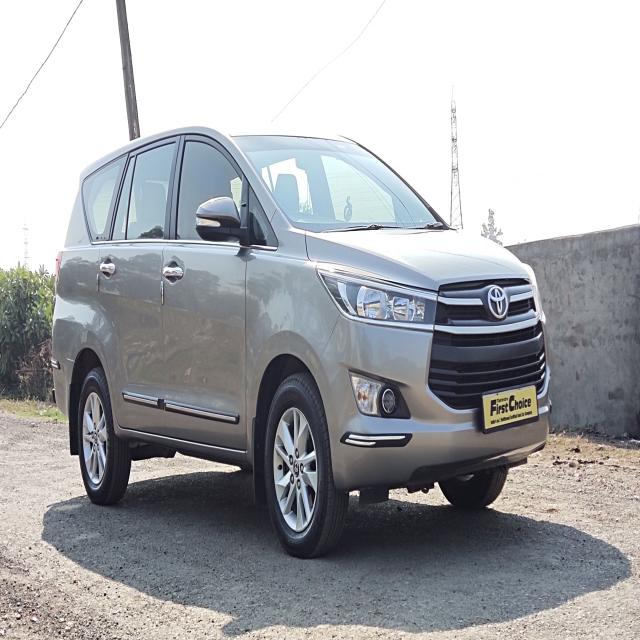light_vehicle: (50, 126, 553, 561)
